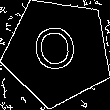O_S: (32, 23, 83, 81)
